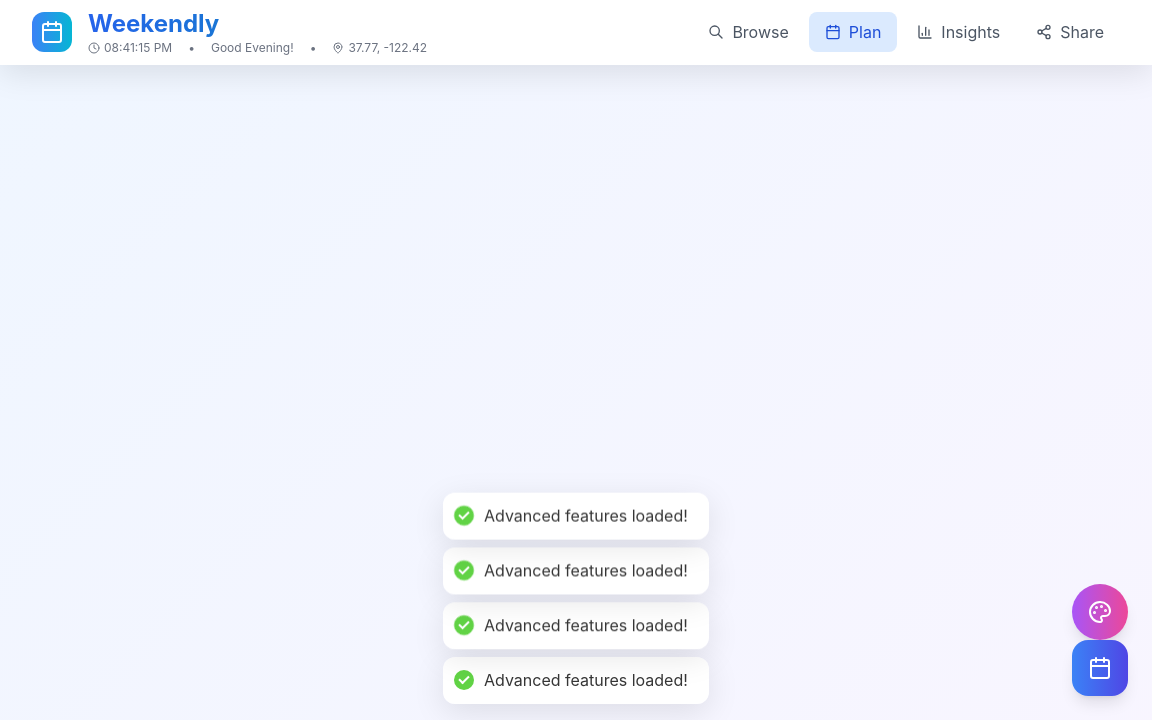
Test case: Weekendly - Core Weekend Planner Tests › can manage weekend schedule
The image size is (1152, 720).
Expected: the heading "Weekendly" is shown, top-left (88, 8), bottom-right (427, 40)
Click the button "Plan" at [853, 32], box top-left (809, 12), bottom-right (897, 52)
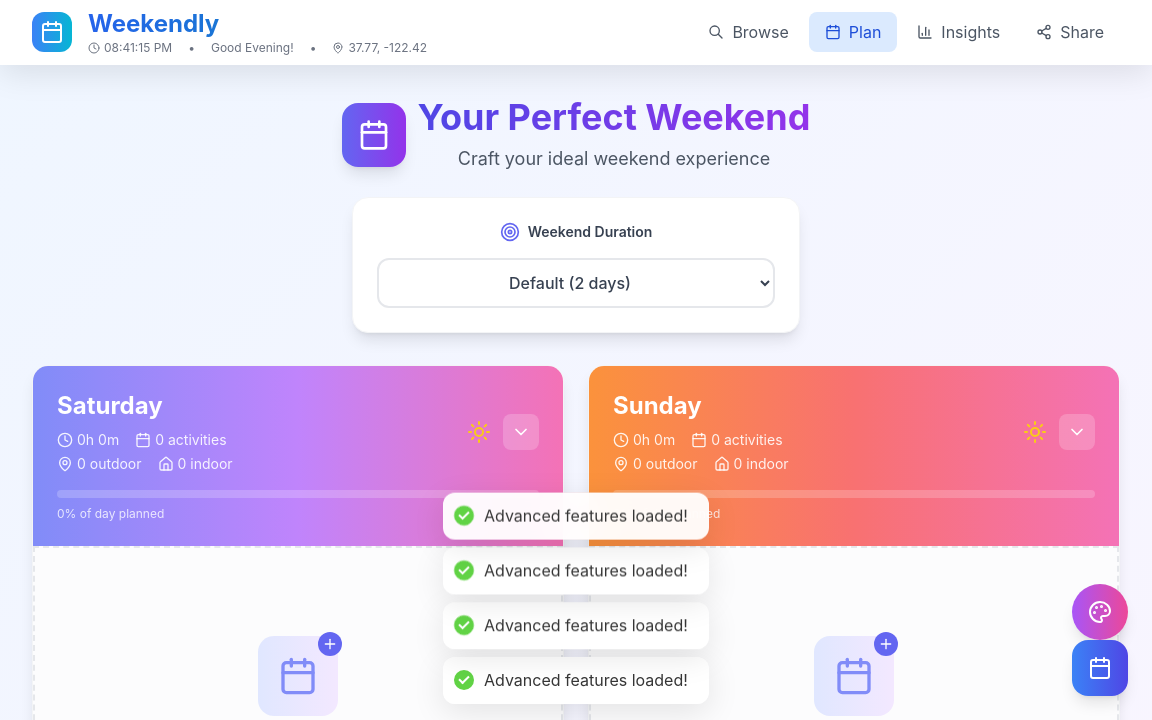
Now the heading "Your Perfect Weekend" is shown, box top-left (418, 97), bottom-right (810, 137)
Now the heading "saturday" is shown, box top-left (57, 391), bottom-right (163, 420)
Now the dropdown showing "Default" is shown, box top-left (377, 258), bottom-right (775, 308)
